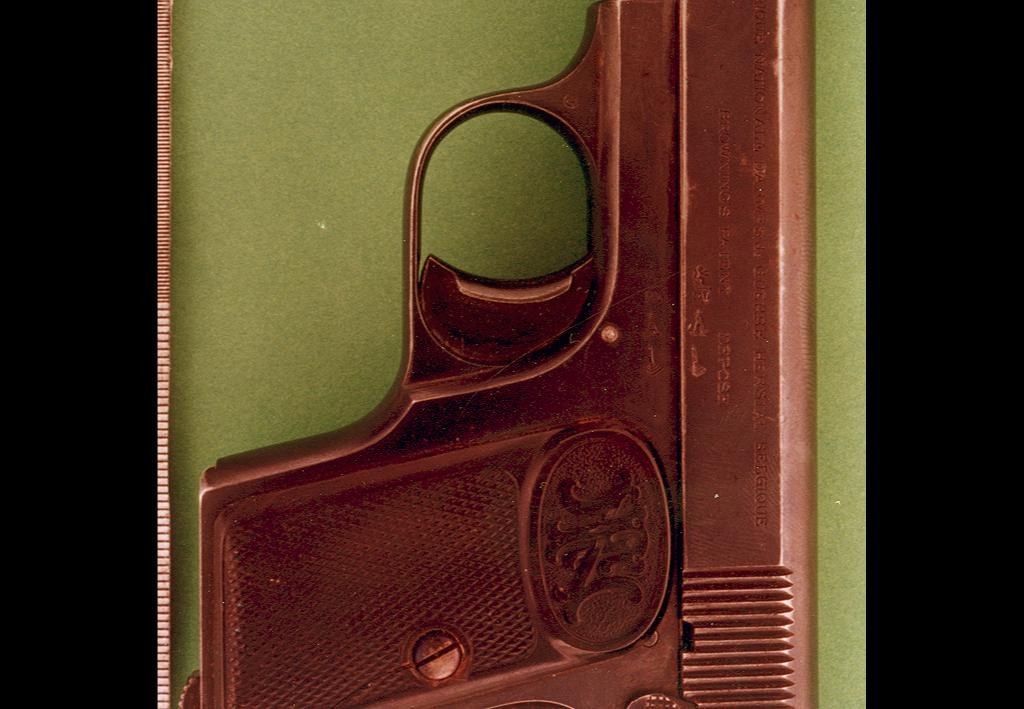gun: (186, 0, 818, 709)
